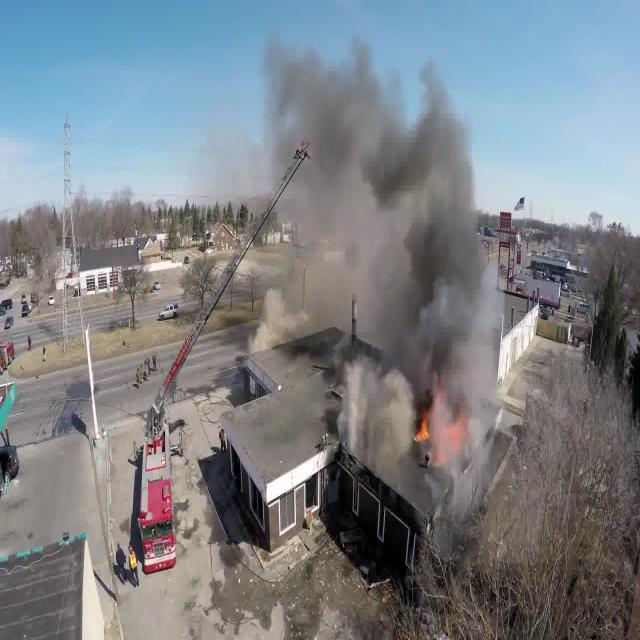Fire: (409, 380, 477, 476)
Smoke: (259, 35, 502, 482)
